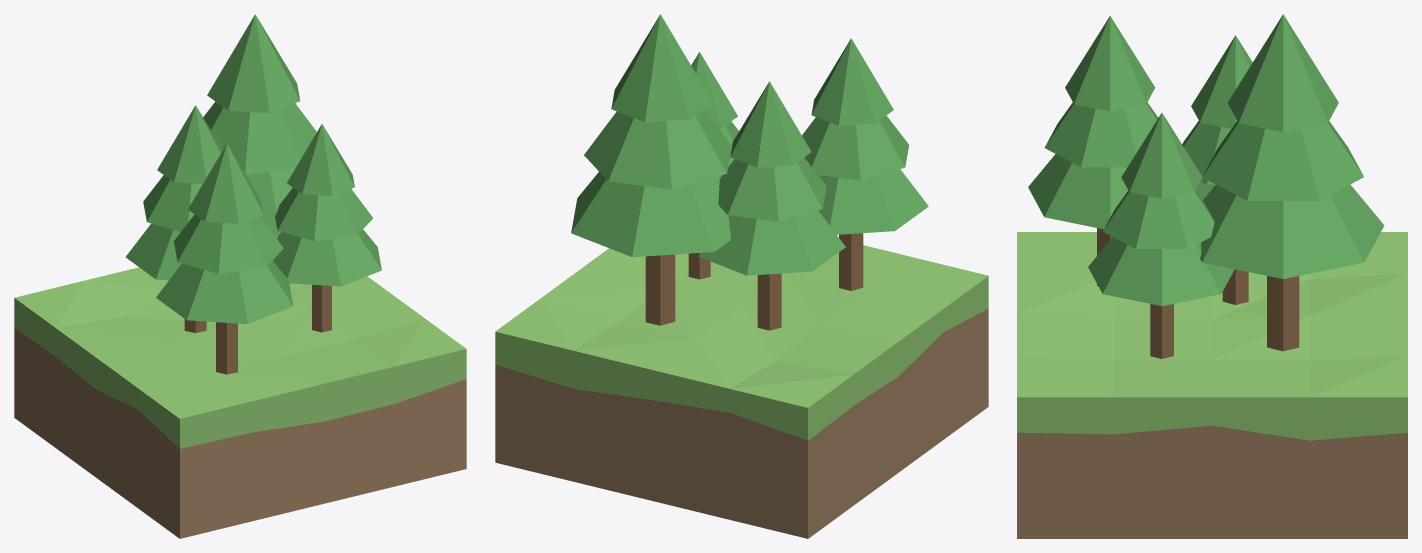
The model's file is GrassTile_Center4.fbx.
The picture shows the model from 3 angles, left to right: view 1: azimuth 30°, elevation 25°; view 2: azimuth 150°, elevation 25°; view 3: azimuth 270°, elevation 25°; orthographic projection. The views are drawn at different scales.
Parts seen in each view (by area): view 1: GrassTile_Center4; view 2: GrassTile_Center4; view 3: GrassTile_Center4.
Boxes of the visible parts, x1,y1,x2,y2 form: GrassTile_Center4: [14, 14, 466, 538]; GrassTile_Center4: [495, 14, 988, 538]; GrassTile_Center4: [1017, 14, 1407, 538].
Bounding box in the file's own units: 1 × 1.32 × 1.
